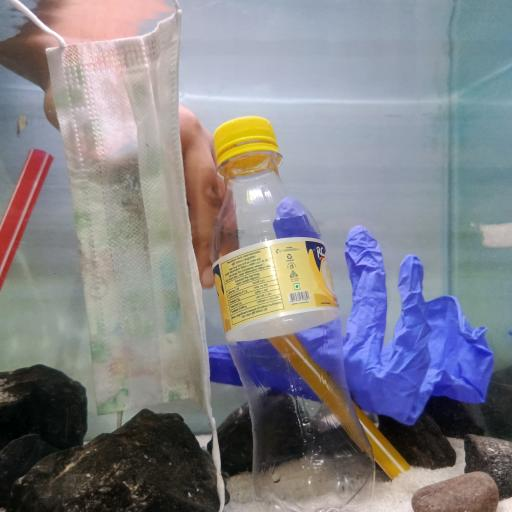bottle_cap: (210, 117, 280, 147)
glove: (202, 199, 497, 417)
mask: (34, 4, 231, 510)
plastic_bottle: (207, 117, 373, 511)
plastic_straw: (275, 336, 410, 472), (4, 140, 56, 298)
